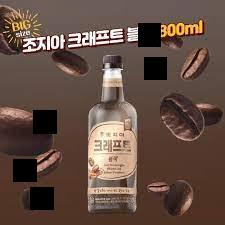georgiacraft_black: (84, 54, 141, 214)
